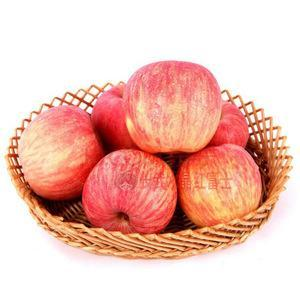apple: (121, 59, 221, 154), (19, 108, 105, 201), (84, 152, 178, 234), (176, 144, 264, 228), (203, 103, 249, 150)
